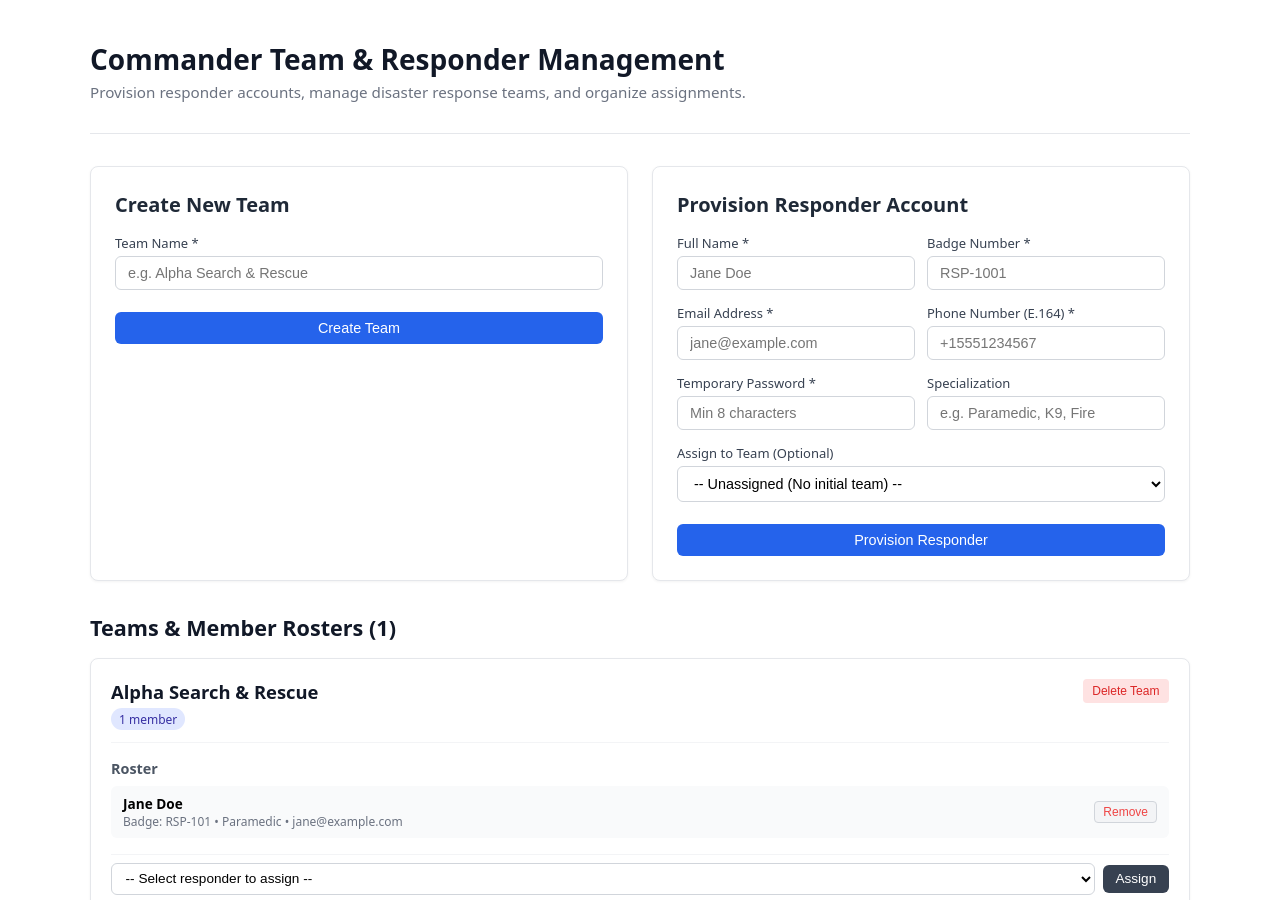
CommanderTeamsView › displays error when create team fails
Type "Alpha Search & Rescue" into the field labelled "Team Name *".
click(359, 273); type("Alpha Search & Rescue")  # box [115,256,603,290]
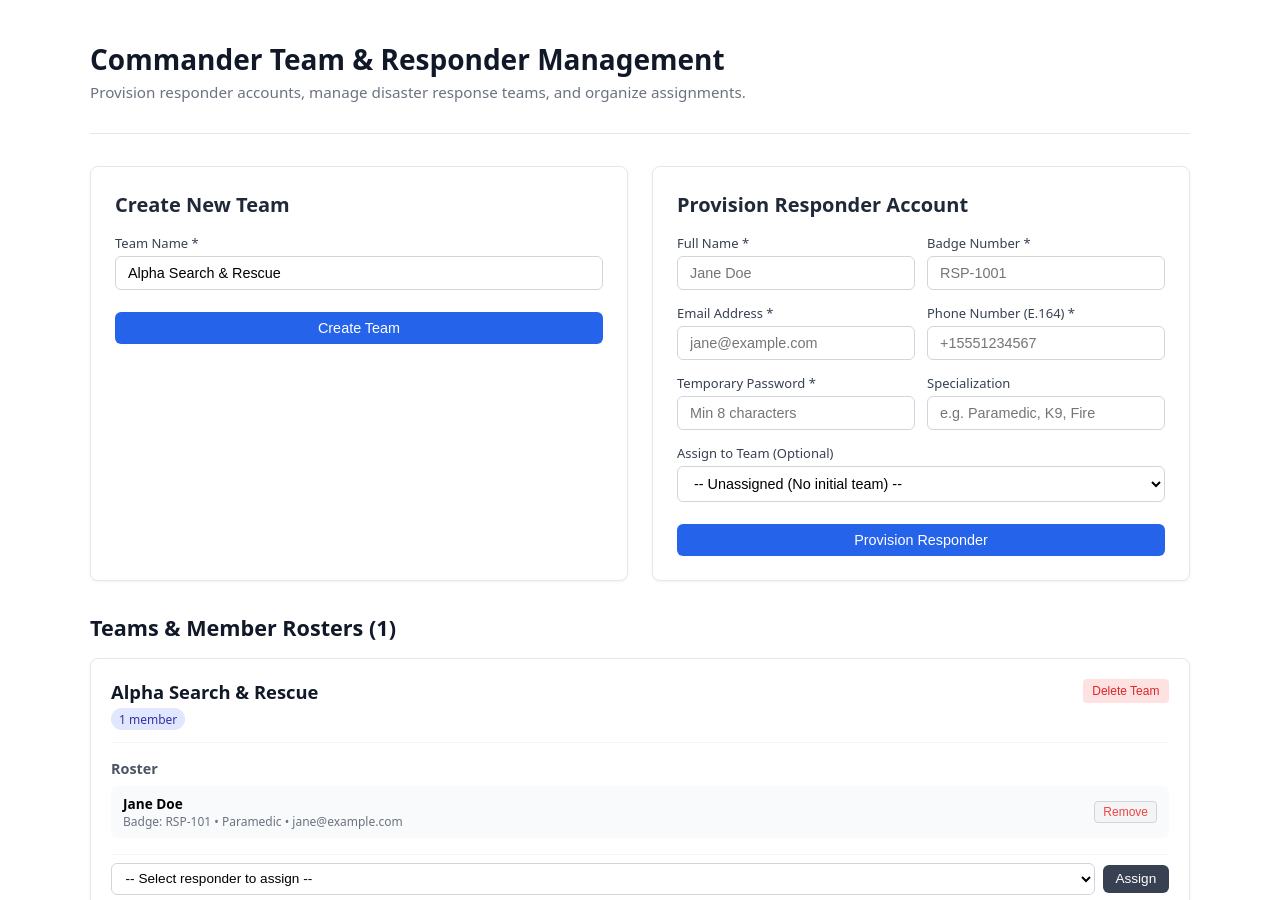
Click the button "Create Team".
click(359, 328)  # box [115,312,603,344]
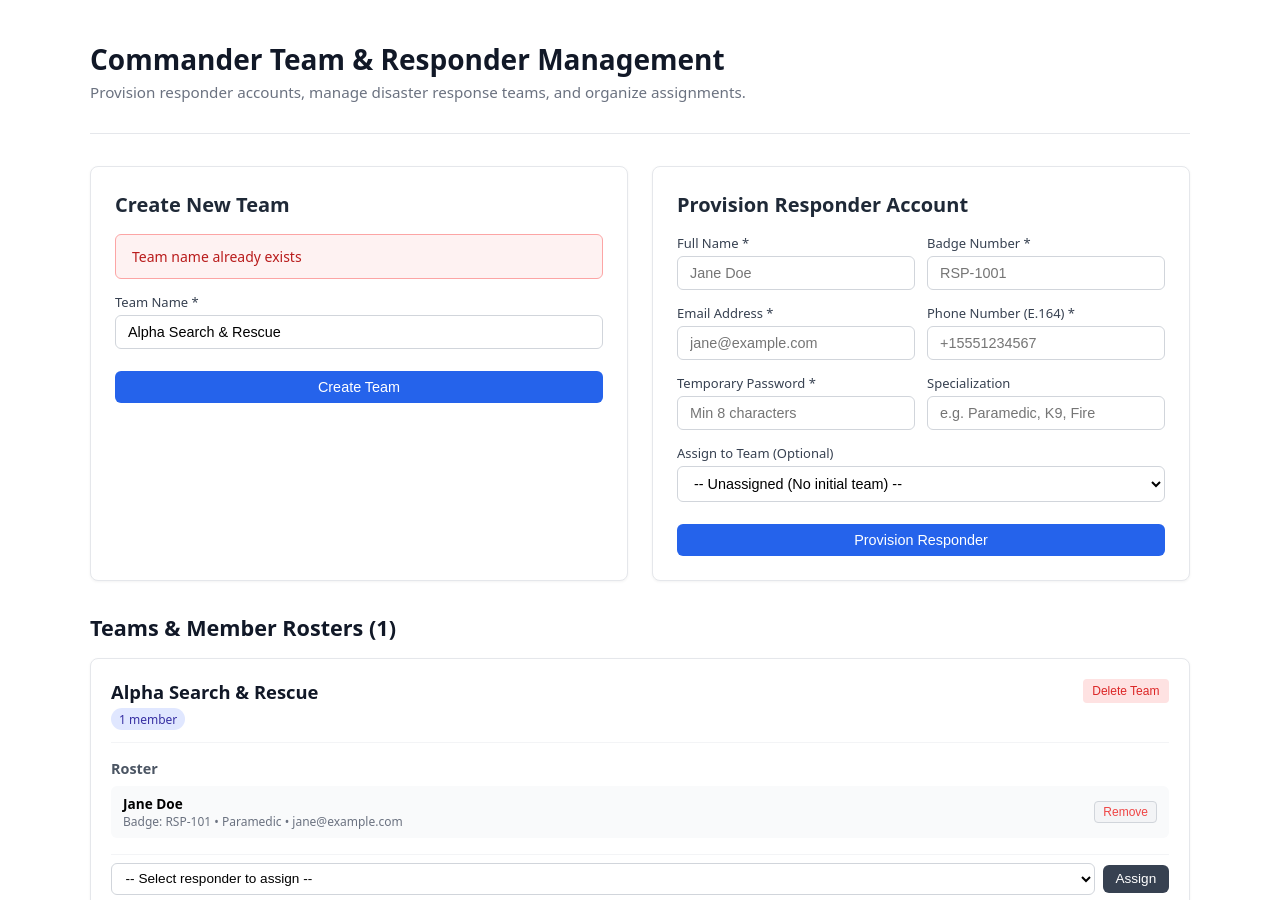
Check: the text "Team name already exists" is shown, box [115,234,603,279]
